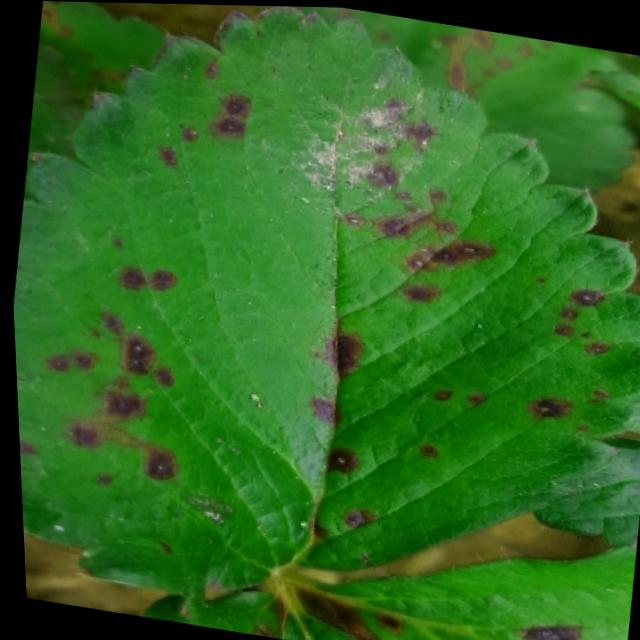Leaf Spot: (10, 5, 640, 611), (303, 5, 635, 191), (307, 535, 633, 640), (26, 1, 160, 161)
